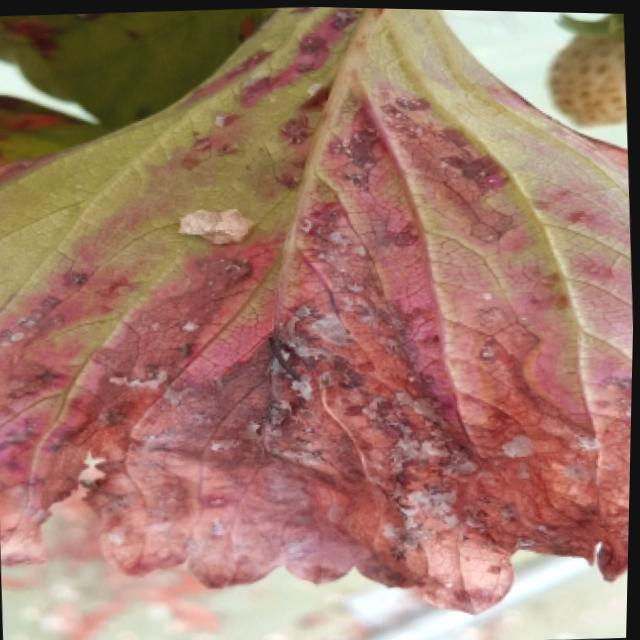Angular Leafspot: (0, 5, 635, 616), (0, 7, 263, 163)
